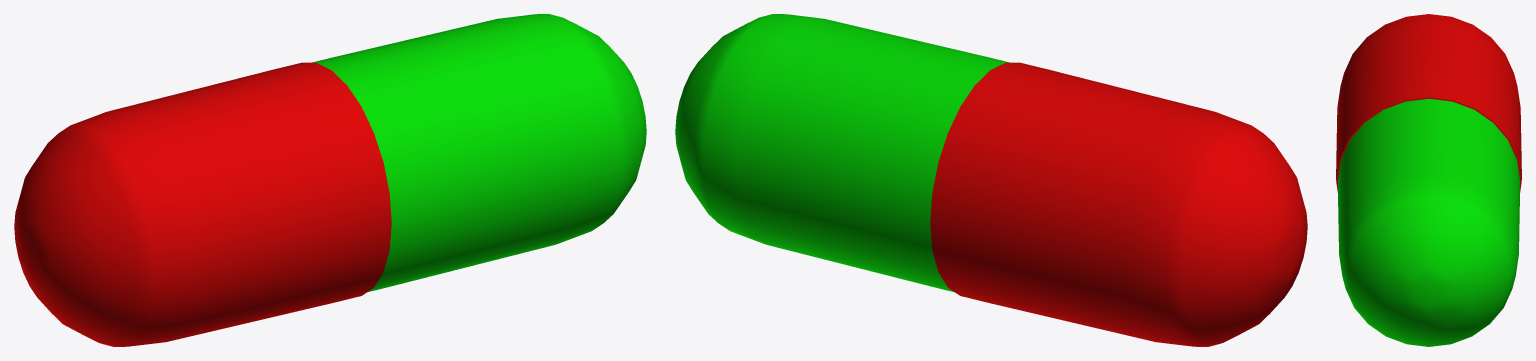
Rendered from pillA.fbx.
3 renders of one model, left to right at view 1: azimuth 30°, elevation 25°; view 2: azimuth 150°, elevation 25°; view 3: azimuth 270°, elevation 25°, orthographic. The views are drawn at different scales.
Parts seen in each view (by area): view 1: pill_C_001_geo; view 2: pill_C_001_geo; view 3: pill_C_001_geo.
Part boxes in pixels (<box>): pill_C_001_geo: <box>14,14,646,346</box>; pill_C_001_geo: <box>675,14,1307,346</box>; pill_C_001_geo: <box>1336,14,1521,346</box>.
Bounding box in the file's own units: 5.47 × 1.9 × 1.9.
